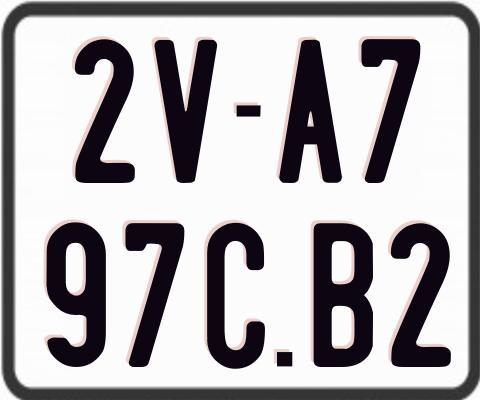2: (390, 220, 456, 366), (72, 37, 137, 183)
7: (123, 221, 186, 370), (360, 39, 421, 186)
9: (43, 219, 107, 365)
A: (278, 40, 346, 188)
B: (314, 221, 374, 365)
C: (207, 221, 268, 369)
V: (151, 37, 216, 182)
